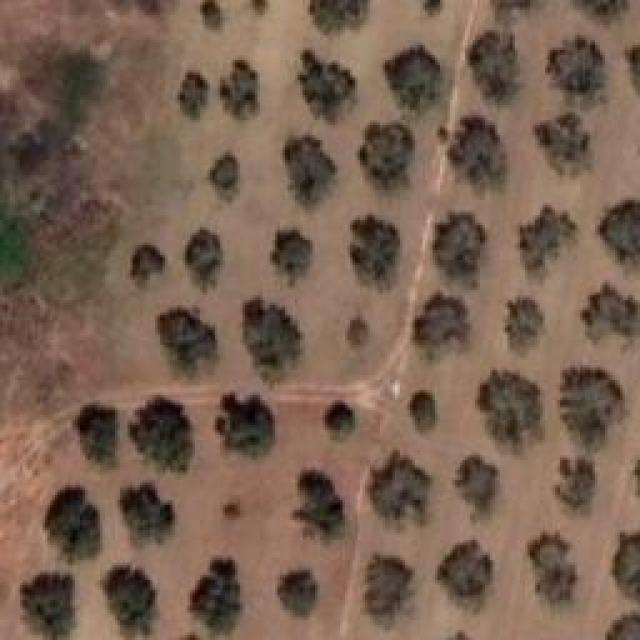Tree: (563, 365, 622, 452), (130, 393, 196, 470), (442, 115, 513, 186), (545, 35, 612, 107), (370, 450, 435, 522), (215, 387, 279, 458), (480, 368, 541, 442), (42, 488, 100, 565), (520, 205, 578, 281), (243, 297, 303, 369), (103, 563, 159, 639), (190, 555, 243, 634), (385, 44, 446, 112), (292, 473, 349, 541), (348, 218, 402, 288), (440, 540, 498, 605), (23, 573, 79, 640), (292, 53, 351, 116), (155, 310, 212, 375), (360, 120, 419, 182), (582, 285, 640, 348), (465, 33, 521, 97), (283, 140, 343, 199), (530, 535, 579, 606), (120, 483, 175, 546), (73, 403, 123, 469), (433, 210, 486, 272), (367, 553, 412, 626), (415, 293, 468, 353), (535, 120, 596, 172), (453, 458, 504, 519), (505, 295, 553, 358), (602, 197, 640, 275), (220, 58, 264, 122), (185, 223, 228, 287), (268, 225, 318, 278), (275, 565, 320, 618), (555, 455, 596, 507), (310, 0, 369, 33), (612, 535, 640, 600), (177, 72, 211, 118), (128, 248, 168, 286), (325, 403, 359, 442), (408, 393, 438, 434), (210, 153, 244, 189), (580, 0, 630, 23), (343, 314, 370, 348), (200, 0, 229, 31), (607, 612, 640, 639), (493, 0, 533, 15), (220, 498, 243, 523), (248, 0, 272, 17), (424, 0, 445, 19)
